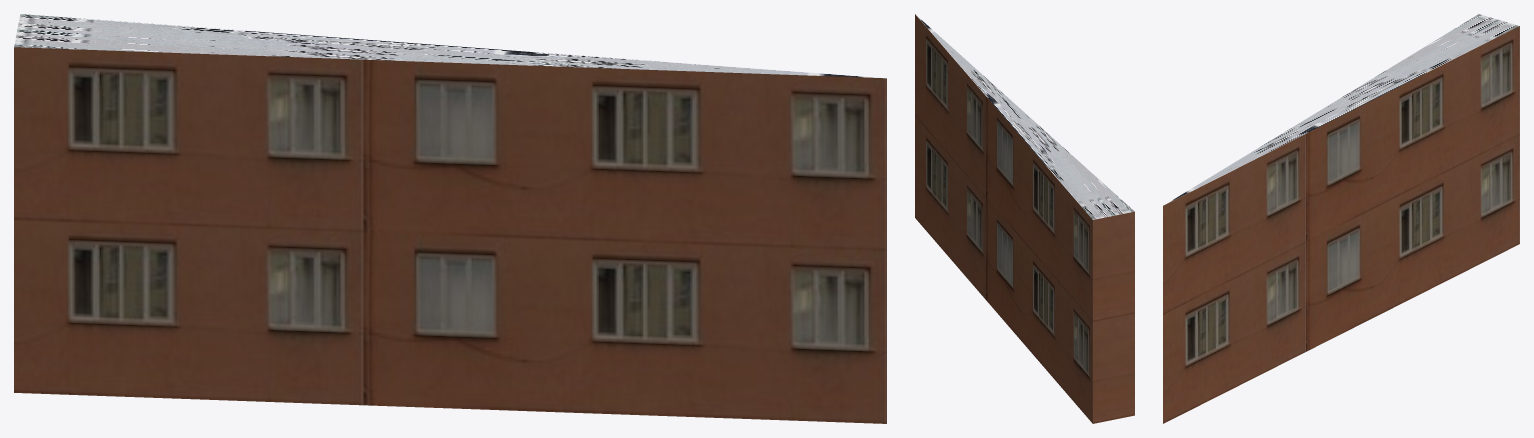
The model's file is ResTex__3844.fbx.
3 views of the same model, side by side, from view 1: azimuth 30°, elevation 25°; view 2: azimuth 150°, elevation 25°; view 3: azimuth 270°, elevation 25° (orthographic). The views are drawn at different scales.
Visible parts, largest first — view 1: CityEngineMaterial_20_m, CityEngineMaterial_m; view 2: CityEngineMaterial_20_m, CityEngineMaterial_m; view 3: CityEngineMaterial_20_m, CityEngineMaterial_m.
Boxes of the visible parts, x1,y1,x2,y2 form: CityEngineMaterial_20_m: (14,47,886,423); CityEngineMaterial_m: (14,14,884,78); CityEngineMaterial_20_m: (915,14,1134,423); CityEngineMaterial_m: (916,15,1134,219); CityEngineMaterial_20_m: (1163,26,1519,423); CityEngineMaterial_m: (1166,14,1518,203).
Size of the model in its own units: 11.31 by 6 by 8.89.
Materials: 2 (2 with a texture image).
